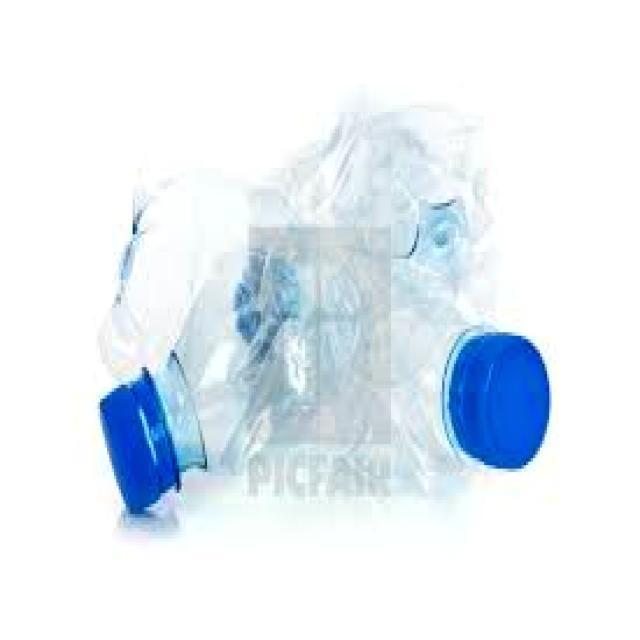defected: (314, 73, 565, 518), (92, 82, 322, 538)
